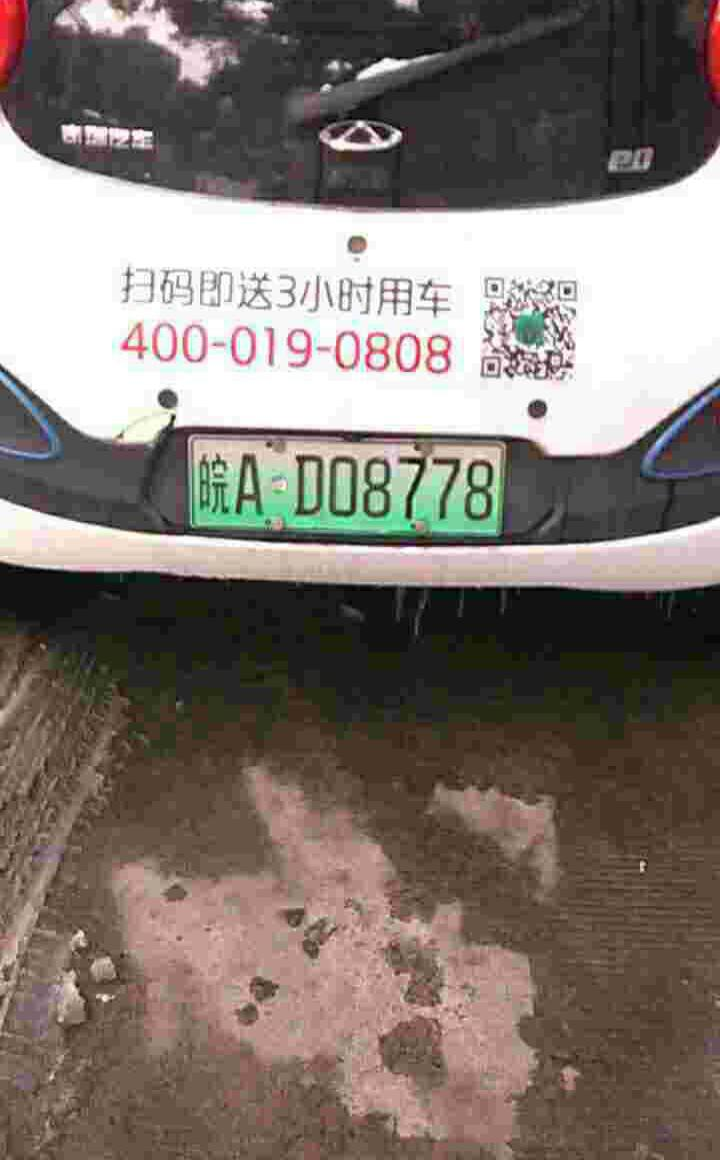car_id: (191, 437, 502, 536)
